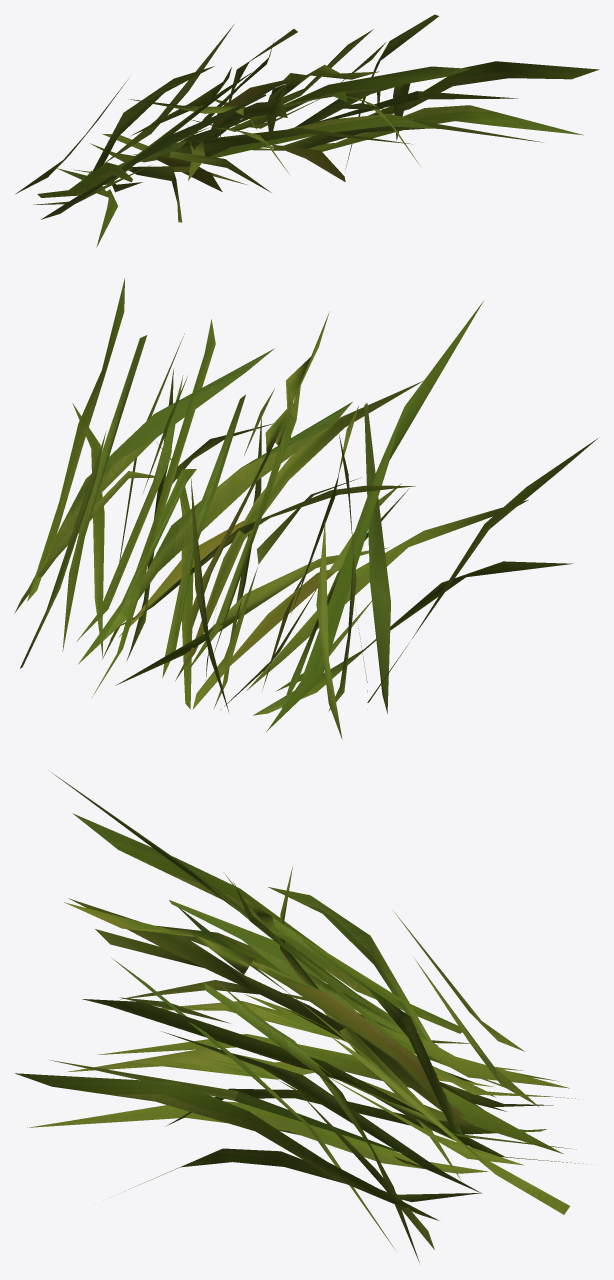
The model's file is Tuft_Lawn.glb.
3 views of the same model, one above another, from view 1: azimuth 30°, elevation 25°; view 2: azimuth 150°, elevation 25°; view 3: azimuth 270°, elevation 25° (orthographic). The views are drawn at different scales.
Visible parts, largest first — view 1: Tuft_Lawn; view 2: Tuft_Lawn; view 3: Tuft_Lawn.
Part boxes in pixels (x1,y1,x2,y2): Tuft_Lawn: (15,14,599,247); Tuft_Lawn: (14,278,597,739); Tuft_Lawn: (15,772,590,1262).
Size of the model in its own units: 0.0915 by 0.05 by 0.0761.
Materials: 1 (1 with a texture image).
